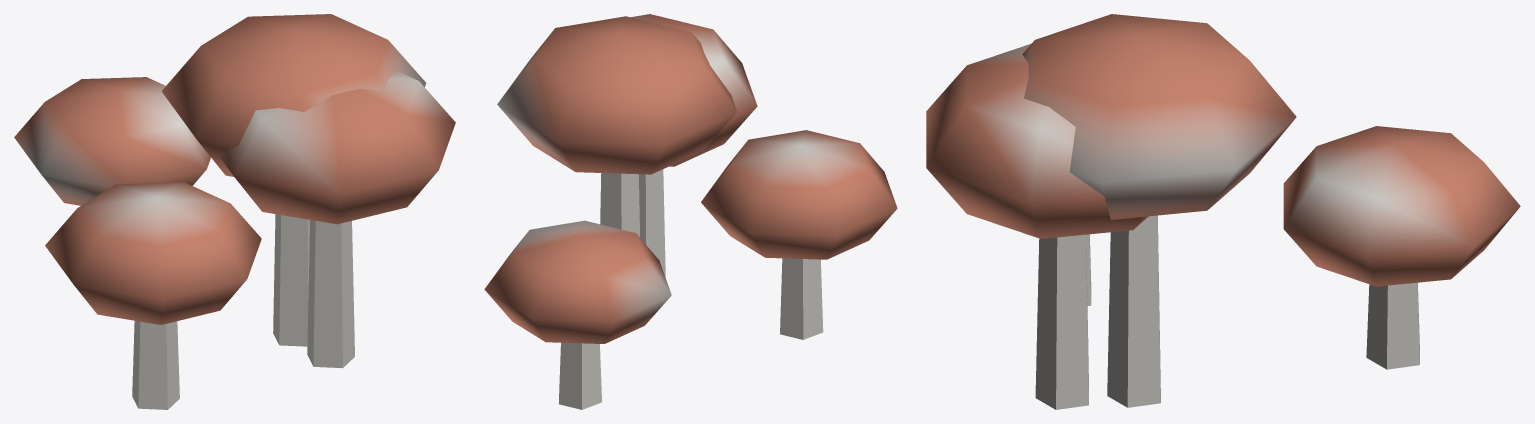
The model's file is mushroom_cluster.glb.
The picture shows the model from 3 angles, left to right: view 1: azimuth 30°, elevation 25°; view 2: azimuth 150°, elevation 25°; view 3: azimuth 270°, elevation 25°; orthographic projection. The views are drawn at different scales.
Visible parts, largest first — view 1: Mushrooms; view 2: Mushrooms; view 3: Mushrooms.
Boxes of the visible parts, <box> form: Mushrooms: <box>14,14,455,409</box>; Mushrooms: <box>484,14,897,409</box>; Mushrooms: <box>926,14,1520,409</box>.
Bounding box in the file's own units: 0.4343 × 0.3339 × 0.5016.
